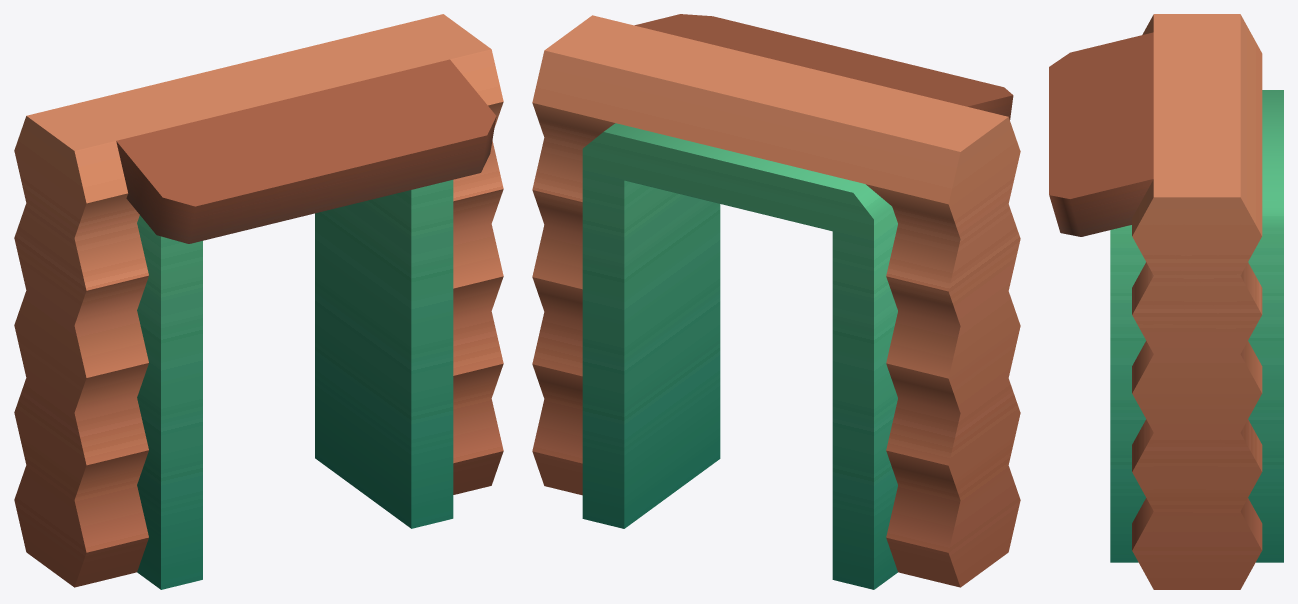
File: cabin-overhang-doorway.glb
The picture shows the model from 3 angles, left to right: view 1: azimuth 30°, elevation 25°; view 2: azimuth 150°, elevation 25°; view 3: azimuth 270°, elevation 25°; orthographic projection. The views are drawn at different scales.
Parts seen in each view (by area): view 1: cabin-overhang-doorway; view 2: cabin-overhang-doorway; view 3: cabin-overhang-doorway.
Part boxes in pixels (<box>): cabin-overhang-doorway: <box>14,14,503,589</box>; cabin-overhang-doorway: <box>532,14,1020,589</box>; cabin-overhang-doorway: <box>1049,14,1283,589</box>.
Bounding box in the file's own units: 1 × 1 × 0.5415.
Materials: 1 (1 with a texture image).
